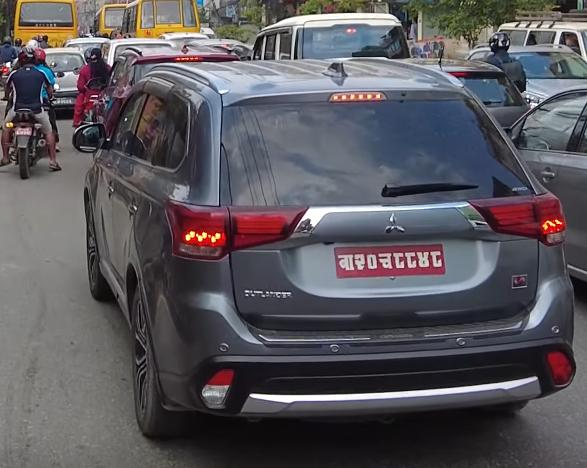bike: (3, 77, 58, 181)
car: (80, 56, 585, 443)
school_bus: (7, 0, 79, 57), (125, 0, 203, 45), (86, 3, 128, 38)
